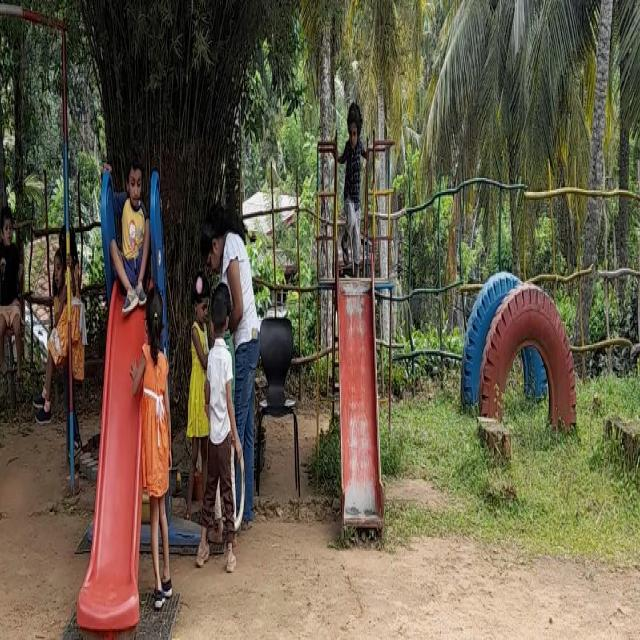adult: (207, 205, 258, 522)
child: (129, 290, 172, 611), (194, 288, 240, 573), (31, 226, 86, 422), (185, 276, 213, 524), (109, 153, 151, 312), (335, 102, 369, 275), (0, 206, 28, 384), (50, 249, 70, 321)
